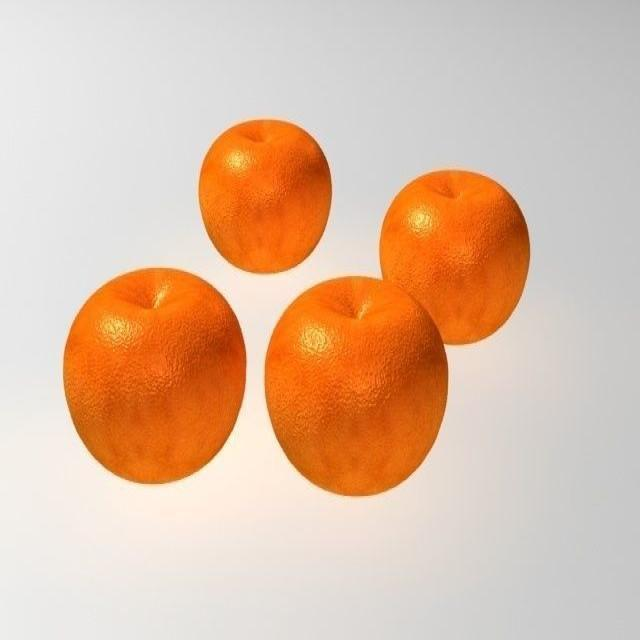Orange: (263, 274, 449, 497), (61, 266, 246, 484), (378, 167, 530, 345), (197, 116, 332, 273)
